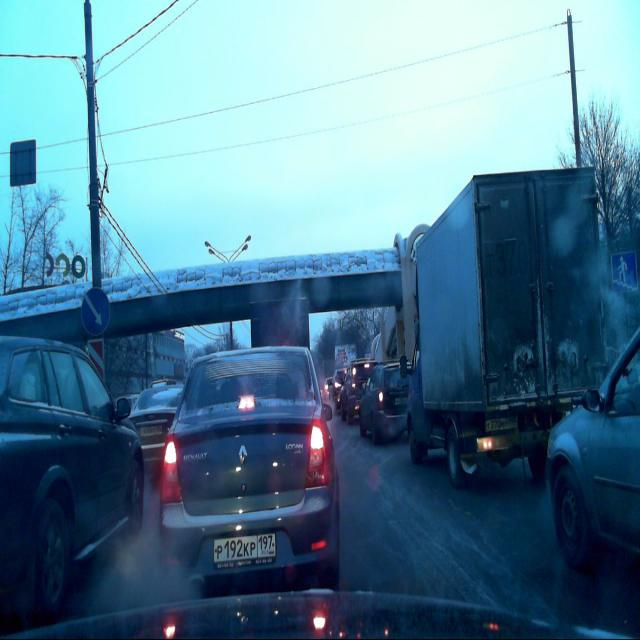object: (88, 340, 106, 388)
road sign: (610, 251, 638, 297)
